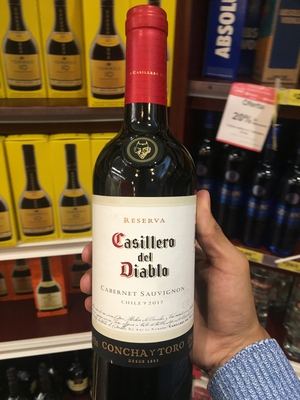casillero del diablo cabernet sauvignon: (87, 6, 206, 400)
